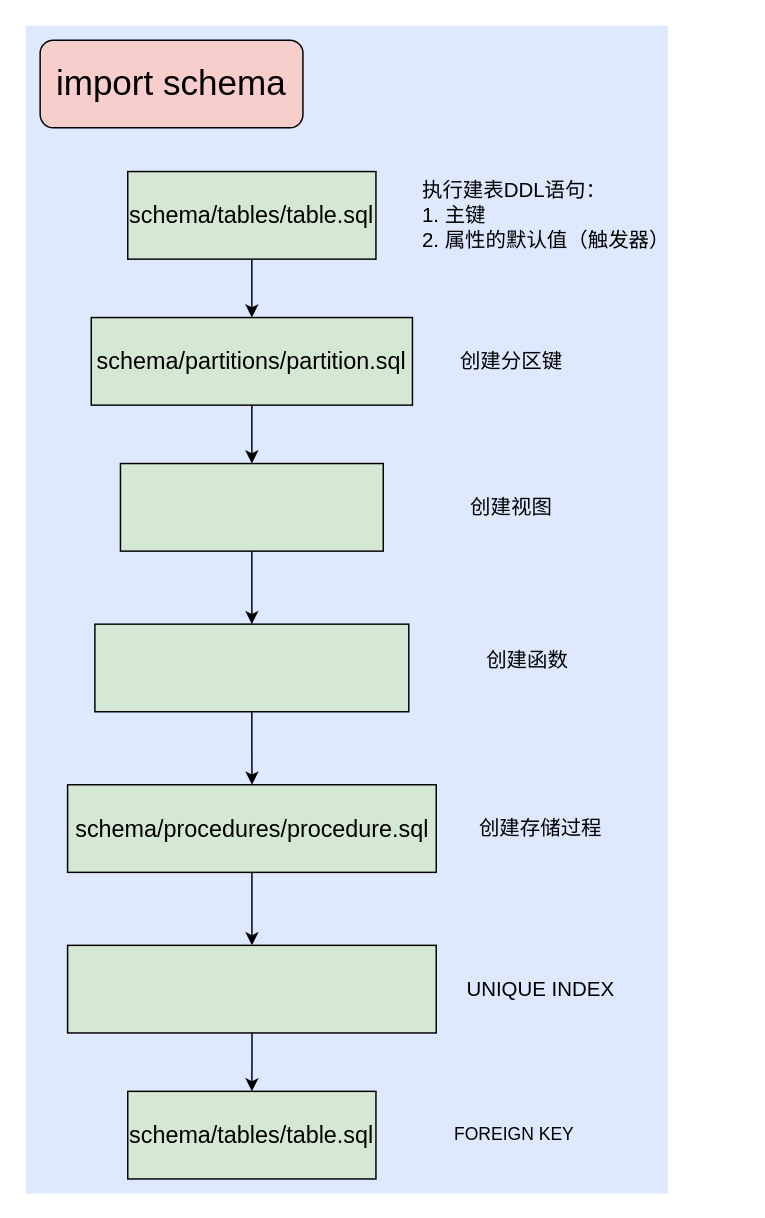
This 765x1218 diagram has some shape labels left out. The shapes that lost their labels are listed below. From the top down, each one's centre as x and y in pixels, then its label:
At point (251, 506): "schema/views/view.sql".
At point (251, 667): "schema/functions/function.sql".
At point (251, 988): "schema/tables/INDEXES_table.sql".
